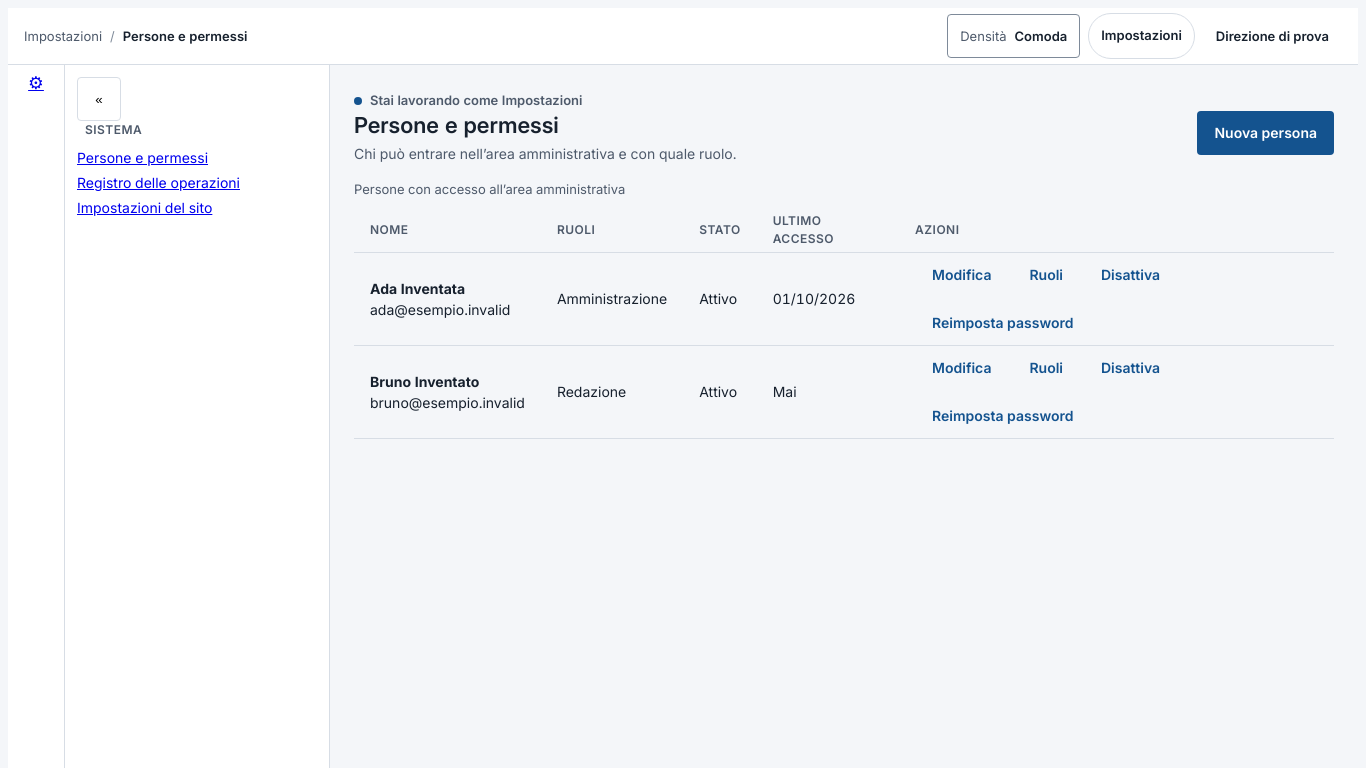
persone e permessi › reimposta la password dopo la conferma e la mostra una sola volta
Expected: the text "Bruno Inventato" is shown, [370, 373, 479, 390]
Click the button with aria-label "Reimposta la password di Bruno Inventato": point(1003, 416) [915, 394, 1090, 438]
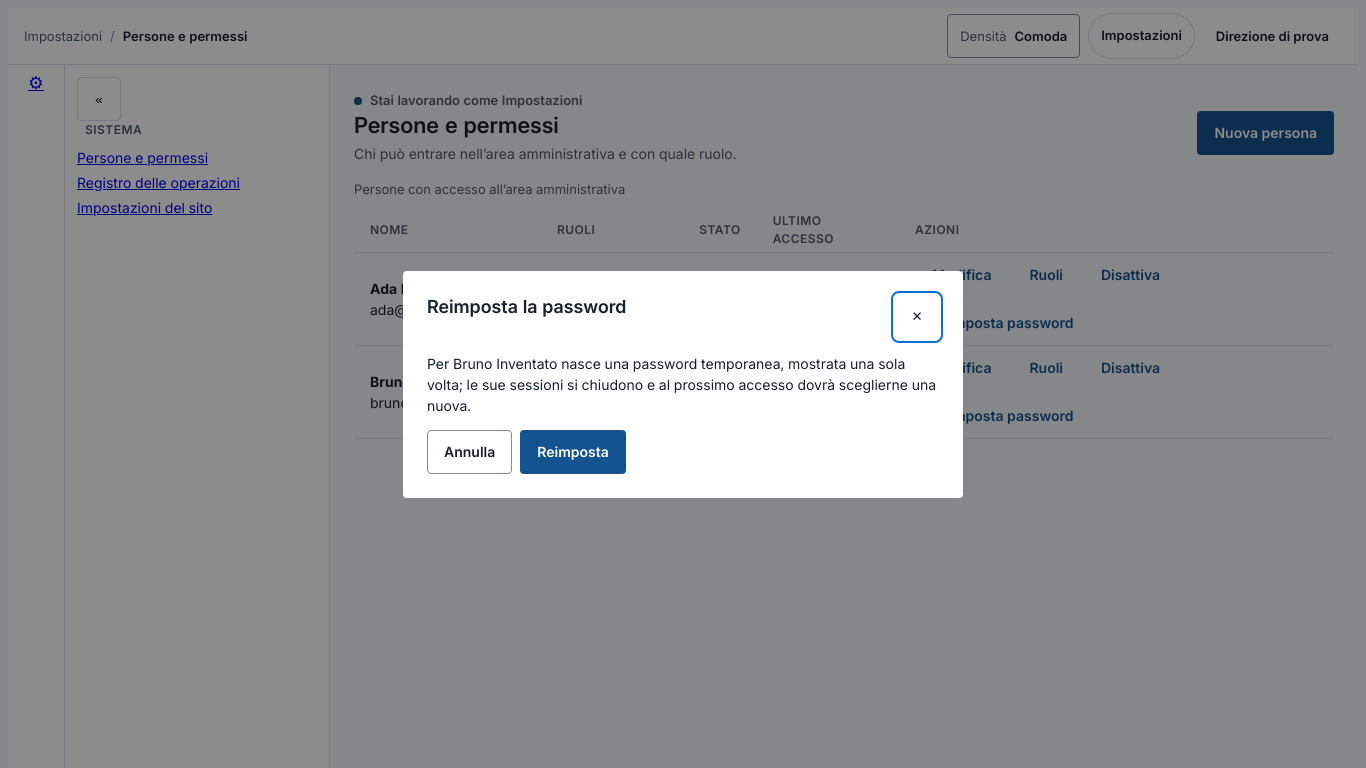
Click the button "Reimposta": point(573, 452) [520, 430, 626, 474]
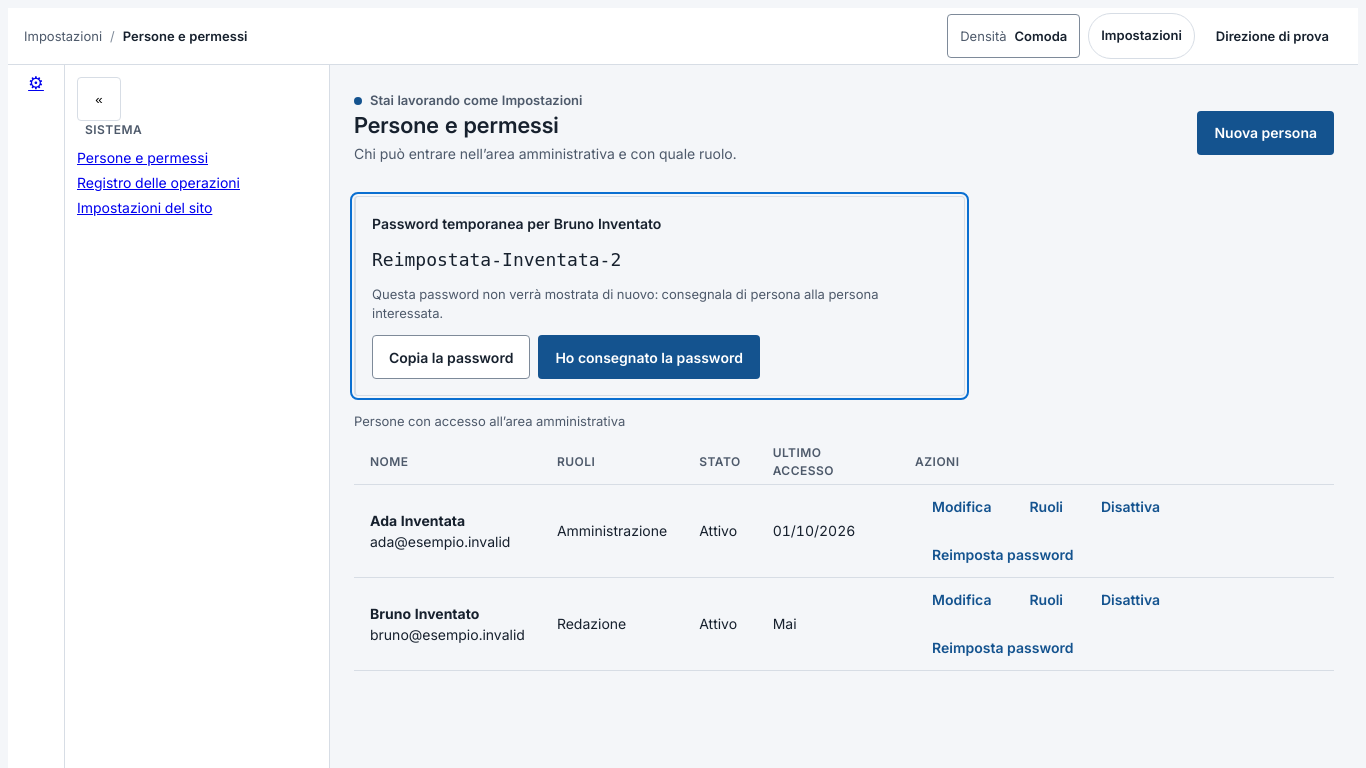
Now the text "Reimpostata-Inventata-2" is shown, box [372, 249, 621, 270]
Now the text "Questa password non verrà mostrata di nuovo: consegnala di persona alla persona interessata." is shown, box [372, 286, 878, 321]
